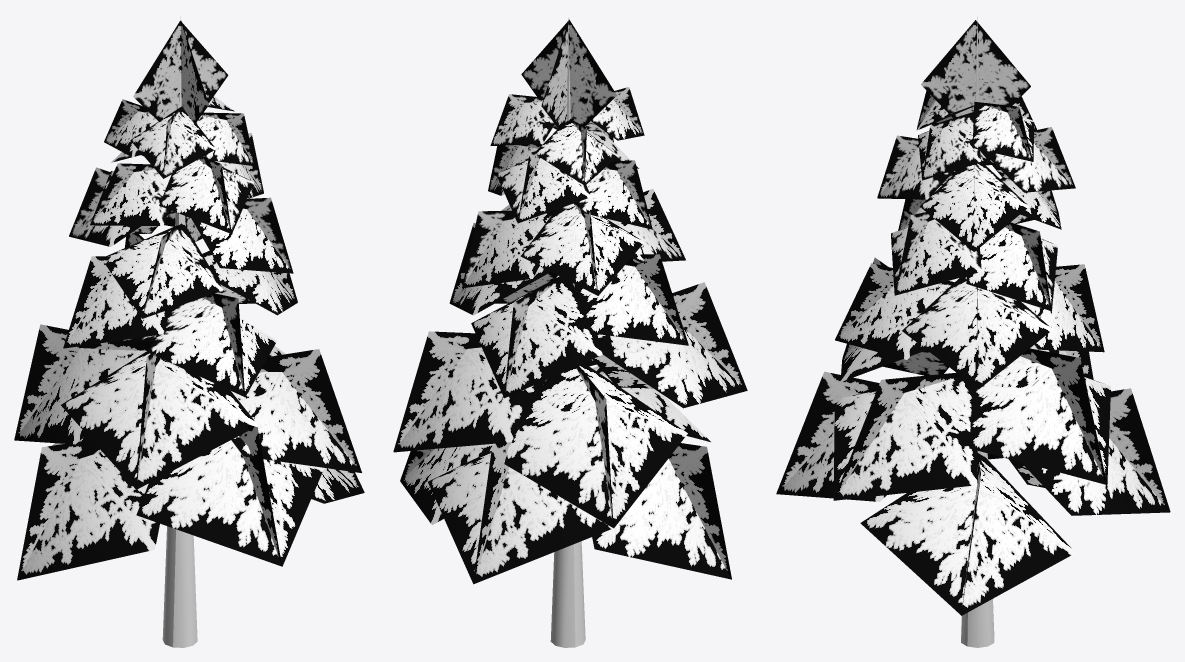
Rendered from blad.obj.
3 views of the same model, side by side, from view 1: azimuth 30°, elevation 25°; view 2: azimuth 150°, elevation 25°; view 3: azimuth 270°, elevation 25° (orthographic).
Visible parts, largest first — view 1: blad; view 2: blad; view 3: blad.
Part boxes in pixels (x1=…): blad: x1=14, y1=16, x2=364, y2=647; blad: x1=393, y1=18, x2=747, y2=647; blad: x1=776, y1=17, x2=1170, y2=647.
Size of the model in its own units: 107 by 189 by 108.
